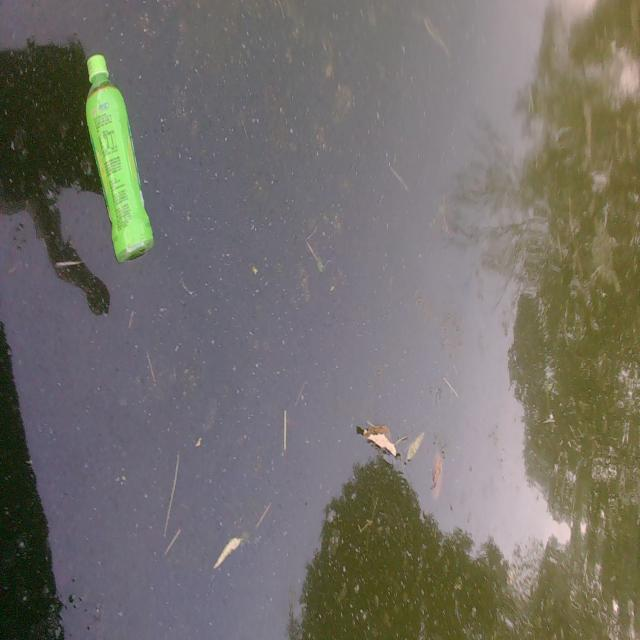Bottle: (82, 47, 158, 265)
